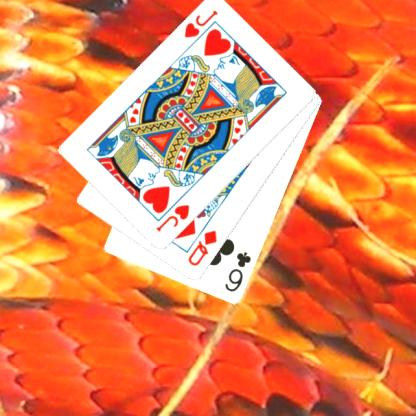6C: (221, 249, 252, 294)
JH: (153, 201, 191, 234), (181, 7, 219, 40)
QD: (185, 228, 218, 268)
